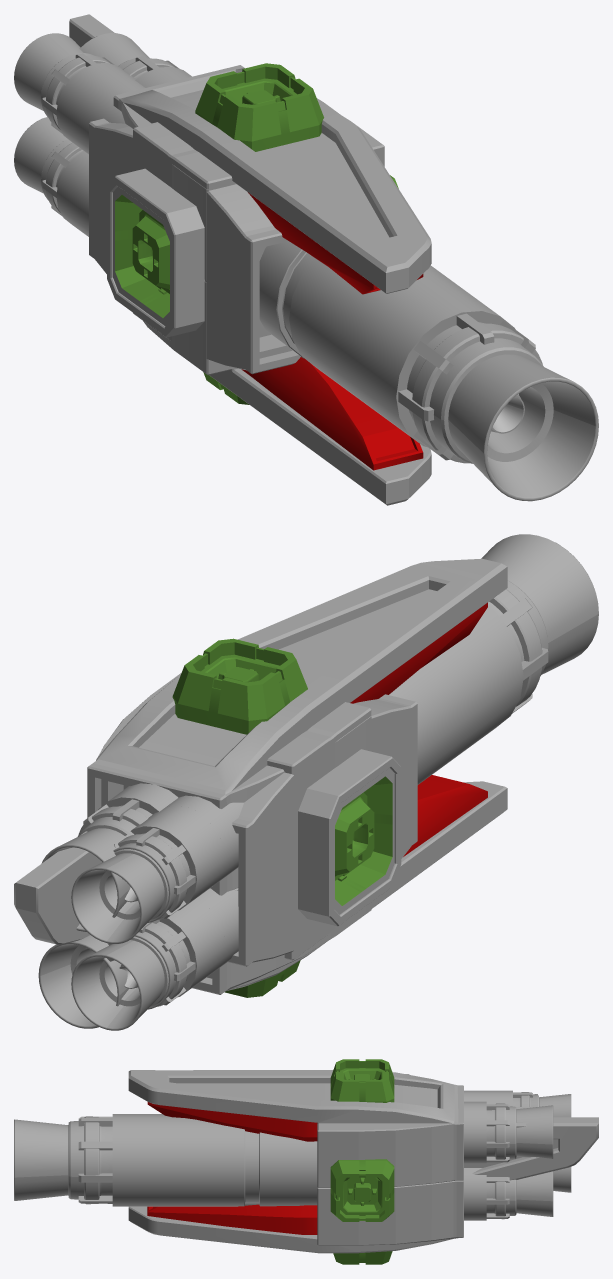
File: Wing Module.fbx
3 renders of one model, top to bottom at view 1: azimuth 30°, elevation 25°; view 2: azimuth 150°, elevation 25°; view 3: azimuth 270°, elevation 25°, orthographic. The views are drawn at different scales.
Visible parts, largest first — view 1: Wing_Module_3, Wing_Module_4, Wing_Module, Wing_Module_2, Thruster_End (×2), Thruster_End1, Thruster_End2; view 2: Wing_Module_3, Wing_Module, Wing_Module_4, Wing_Module_2, Thruster_End (×4), Thruster_End1 (×2), Thruster_End2; view 3: Wing_Module_4, Wing_Module_3, Thruster_End (×3), Wing_Module, Thruster_End2, Thruster_End1.
Boxes of the visible parts, box(x1,y1,x2,y2) form: Wing_Module_3: box(107, 56, 431, 505); Wing_Module_4: box(114, 66, 543, 503); Wing_Module: box(42, 14, 300, 374); Wing_Module_2: box(83, 82, 236, 367); Thruster_End (×2): box(14, 117, 598, 501); Thruster_End1: box(14, 33, 83, 110); Thruster_End2: box(80, 33, 149, 65); Wing_Module_3: box(77, 558, 507, 996); Wing_Module: box(14, 694, 417, 1007); Wing_Module_4: box(87, 561, 548, 997); Wing_Module_2: box(166, 702, 400, 966); Thruster_End (×4): box(38, 534, 598, 1030); Thruster_End1 (×2): box(71, 843, 175, 943); Thruster_End2: box(41, 828, 130, 931); Wing_Module_4: box(68, 1061, 463, 1264); Wing_Module_3: box(128, 1059, 516, 1263); Thruster_End (×3): box(14, 1119, 571, 1216); Wing_Module: box(405, 1074, 598, 1180); Thruster_End2: box(516, 1105, 553, 1158); Thruster_End1: box(539, 1094, 571, 1117).
Bounding box in the file's own units: 1043 × 1242 × 3603.
